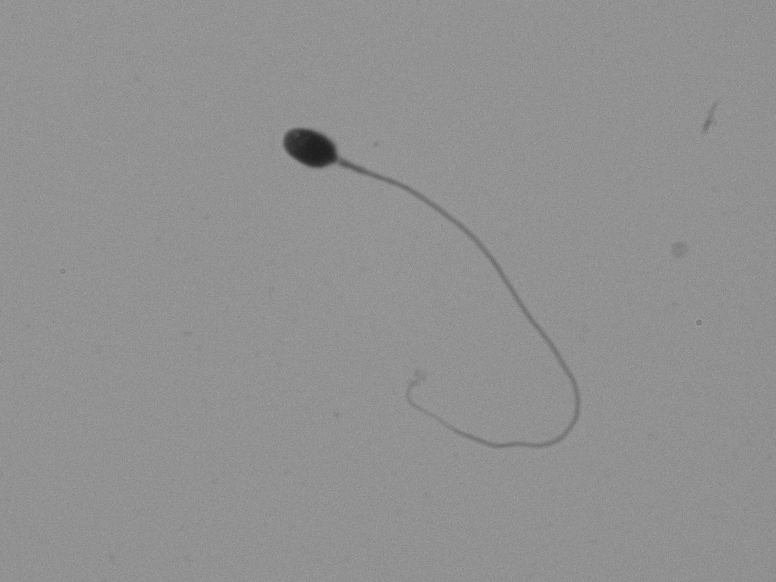Normal: (252, 100, 606, 470)
